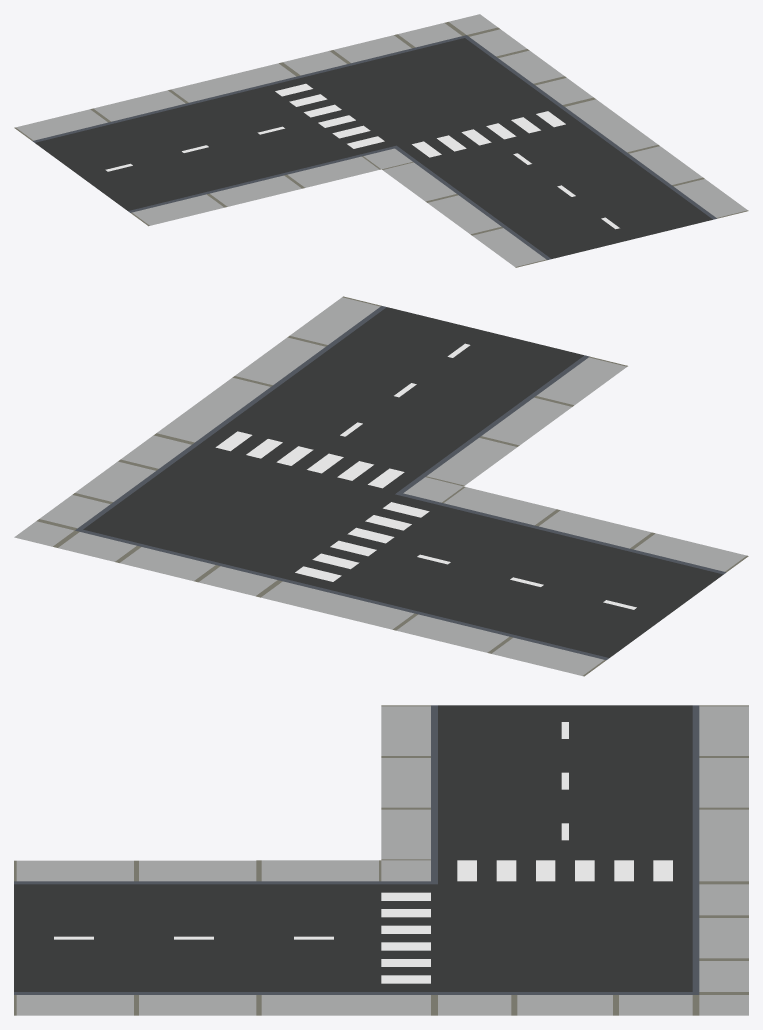
The model's file is road junction3.FBX.
The picture shows the model from 3 angles, top to bottom: view 1: azimuth 30°, elevation 25°; view 2: azimuth 150°, elevation 25°; view 3: azimuth 270°, elevation 25°; orthographic projection. The views are drawn at different scales.
Visible parts, largest first — view 1: road junction3; view 2: road junction3; view 3: road junction3.
Boxes of the visible parts, x1,y1,x2,y2 form: road junction3: [14, 14, 748, 267]; road junction3: [14, 296, 748, 676]; road junction3: [14, 705, 748, 1015].
Size of the model in its own units: 40 by 1.75e-06 by 40.
